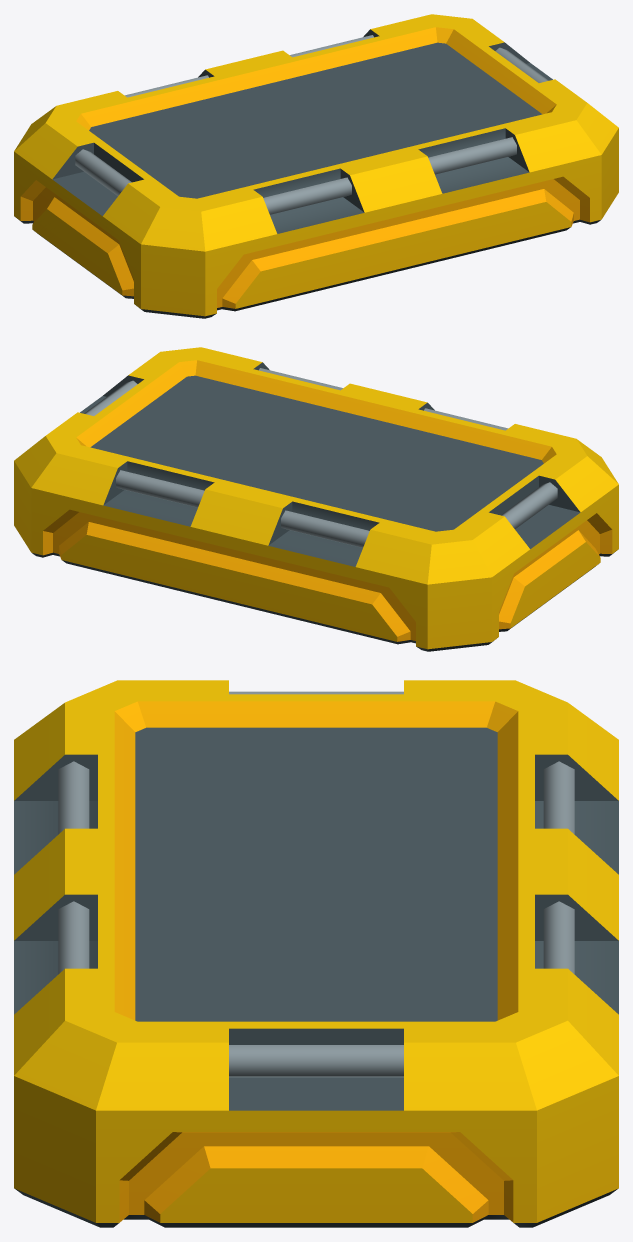
The model's file is Crate_013_cap_001.glb.
The picture shows the model from 3 angles, top to bottom: view 1: azimuth 30°, elevation 25°; view 2: azimuth 150°, elevation 25°; view 3: azimuth 270°, elevation 25°; orthographic projection. The views are drawn at different scales.
Visible parts, largest first — view 1: Crate_013_cap_001; view 2: Crate_013_cap_001; view 3: Crate_013_cap_001.
Part boxes in pixels (x1,y1,x2,y2): Crate_013_cap_001: [14, 14, 618, 318]; Crate_013_cap_001: [14, 347, 618, 651]; Crate_013_cap_001: [14, 680, 618, 1227].
Bounding box in the file's own units: 1.02 × 0.1954 × 0.6405.
Materials: 1 (1 with a texture image).
